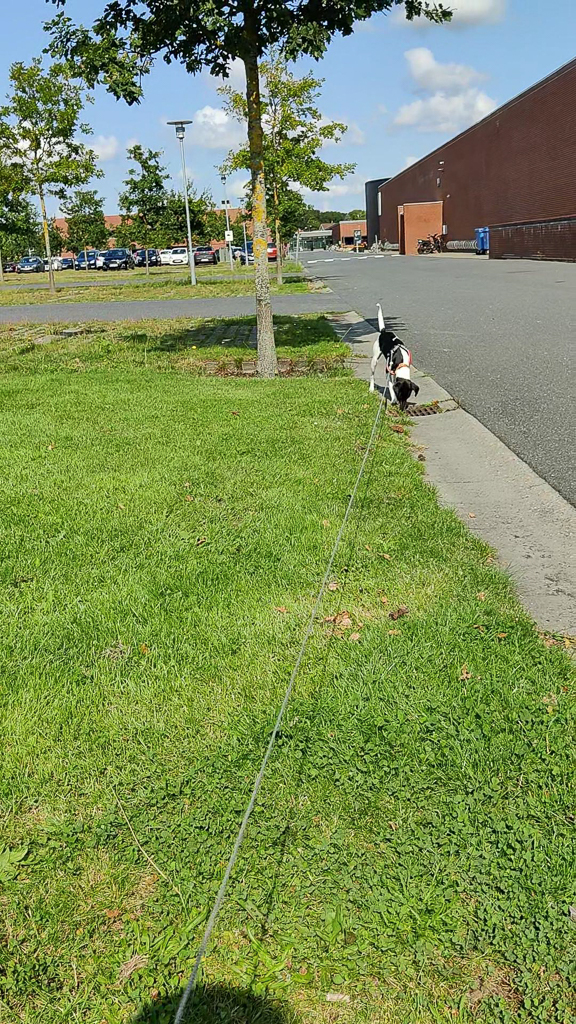Dog: (361, 295, 432, 416)
